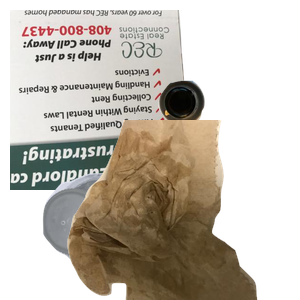glass: (156, 78, 300, 197)
paper: (10, 10, 201, 190)
plastic: (40, 170, 187, 300)
trash: (65, 120, 300, 300)
